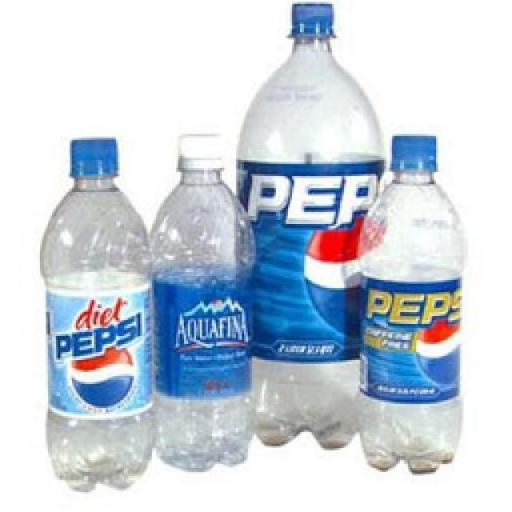plastic: (234, 0, 386, 448), (38, 136, 154, 492), (354, 132, 466, 472), (148, 132, 256, 470)
